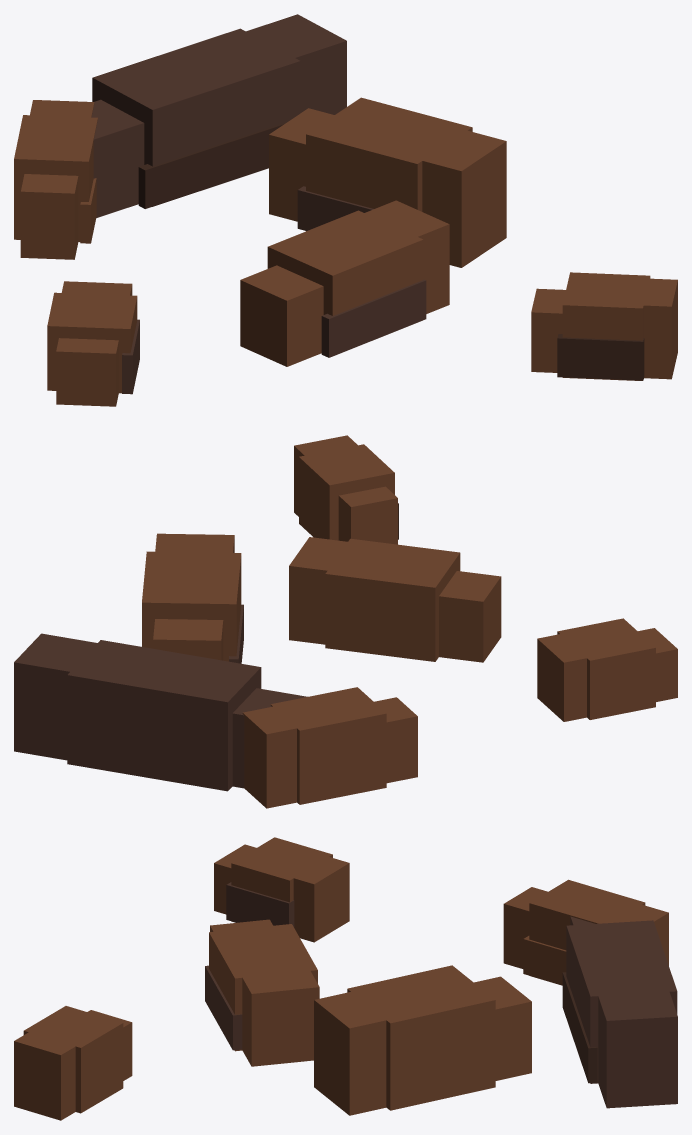
The model's file is CMU3DDecorFloorBrickrubbleEast.glb.
The picture shows the model from 3 angles, top to bottom: view 1: azimuth 30°, elevation 25°; view 2: azimuth 150°, elevation 25°; view 3: azimuth 270°, elevation 25°; orthographic projection. The views are drawn at different scales.
Parts seen in each view (by area): view 1: brick 1 fractured section 2, brick 3 fractured section 2, brick 5 fractured section 2, brick 3 fractured section 3, brick 5 fractured section 1, brick 2 fractured section 2, brick 6 fractured section 2, brick 1 lower fracture face, brick 1 fractured section 3, brick 2 fractured section 1, brick 1 fractured section 1, brick 4 fractured section 2 (+12 smaller); view 2: brick 1 fractured section 2, brick 5 fractured section 2, brick 2 fractured section 2, brick 3 fractured section 2, brick 1 fractured section 3, brick 4 fractured section 2, brick 6 fractured section 2, brick 5 fractured section 1, brick 2 fractured section 3, brick 5 fractured section 3, brick 4 fractured section 3, brick 6 fractured section 1 (+6 smaller); view 3: brick 3 fractured section 2, brick 1 fractured section 3, brick 1 fractured section 2, brick 3 fractured section 3, brick 5 fractured section 3, brick 6 fractured section 2, brick 5 fractured section 2, brick 6 fractured section 3, brick 2 fractured section 2, brick 4 fractured section 3, brick 4 fractured section 2, brick 3 fractured section 1 (+9 smaller).
Boxes of the visible parts, x1=… form: brick 1 fractured section 2: x1=92, y1=28, x2=300, y2=206; brick 3 fractured section 2: x1=306, y1=97, x2=472, y2=231; brick 5 fractured section 2: x1=267, y1=210, x2=423, y2=315; brick 3 fractured section 3: x1=422, y1=130, x2=506, y2=267; brick 5 fractured section 1: x1=240, y1=265, x2=323, y2=366; brick 2 fractured section 2: x1=14, y1=115, x2=97, y2=241; brick 6 fractured section 2: x1=562, y1=272, x2=650, y2=380; brick 1 lower fracture face: x1=138, y1=121, x2=287, y2=208; brick 1 fractured section 3: x1=246, y1=14, x2=346, y2=114; brick 2 fractured section 1: x1=20, y1=174, x2=78, y2=259; brick 1 fractured section 1: x1=91, y1=99, x2=144, y2=217; brick 4 fractured section 2: x1=47, y1=292, x2=137, y2=393; brick 1 fractured section 2: x1=67, y1=640, x2=261, y2=791; brick 5 fractured section 2: x1=325, y1=538, x2=460, y2=661; brick 2 fractured section 2: x1=270, y1=687, x2=386, y2=804; brick 3 fractured section 2: x1=142, y1=551, x2=241, y2=661; brick 1 fractured section 3: x1=14, y1=633, x2=97, y2=760; brick 4 fractured section 2: x1=557, y1=618, x2=655, y2=719; brick 6 fractured section 2: x1=299, y1=444, x2=394, y2=540; brick 5 fractured section 1: x1=439, y1=571, x2=501, y2=662; brick 2 fractured section 3: x1=242, y1=706, x2=296, y2=808; brick 5 fractured section 3: x1=289, y1=537, x2=347, y2=644; brick 4 fractured section 3: x1=537, y1=634, x2=586, y2=721; brick 6 fractured section 1: x1=338, y1=486, x2=397, y2=544; brick 3 fractured section 2: x1=347, y1=965, x2=495, y2=1110; brick 1 fractured section 3: x1=598, y1=992, x2=677, y2=1108; brick 1 fractured section 2: x1=566, y1=920, x2=677, y2=1083; brick 3 fractured section 3: x1=314, y1=992, x2=386, y2=1115; brick 5 fractured section 3: x1=242, y1=971, x2=319, y2=1066; brick 6 fractured section 2: x1=23, y1=1006, x2=123, y2=1113; brick 5 fractured section 2: x1=209, y1=924, x2=317, y2=1051; brick 6 fractured section 3: x1=14, y1=1032, x2=75, y2=1120; brick 2 fractured section 2: x1=529, y1=879, x2=645, y2=985; brick 4 fractured section 3: x1=293, y1=857, x2=349, y2=942; brick 4 fractured section 2: x1=231, y1=837, x2=332, y2=922; brick 3 fractured section 1: x1=474, y1=976, x2=531, y2=1080.
Bounding box in the file's own units: 0.6735 × 0.12 × 0.8268.
